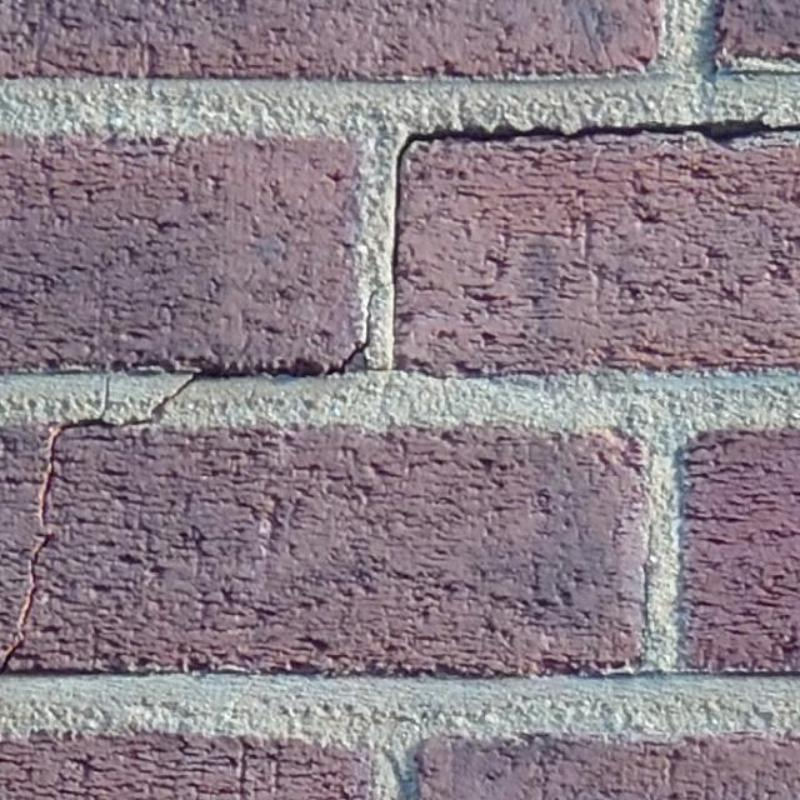pothole: (195, 120, 799, 380), (0, 374, 116, 675), (119, 379, 197, 428), (350, 351, 408, 372)
